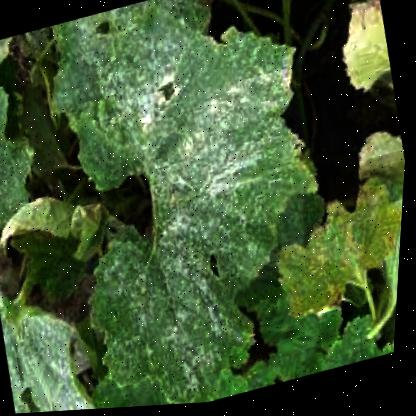PowderyMildew: (140, 38, 299, 263), (95, 202, 289, 377), (60, 1, 215, 156)
